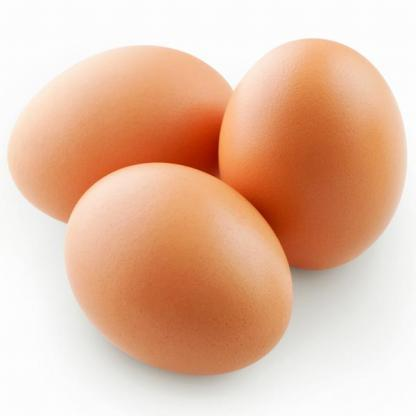egg: (64, 159, 298, 377), (214, 34, 408, 275), (6, 44, 242, 224)
